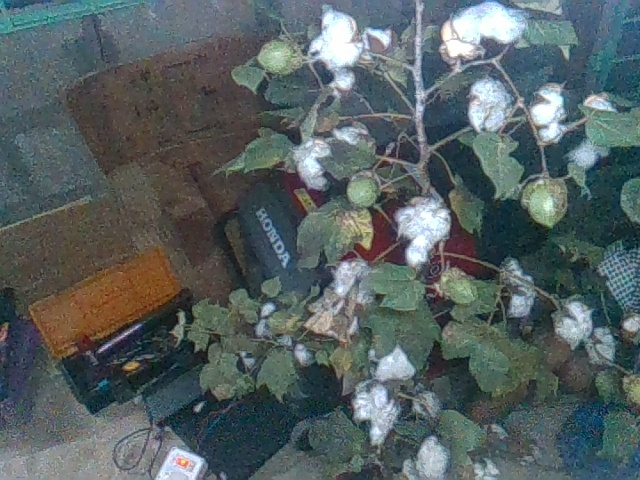cotton: (431, 1, 528, 65), (302, 2, 364, 94), (392, 190, 454, 268), (567, 93, 624, 170), (349, 380, 401, 448), (468, 78, 516, 139), (497, 253, 536, 320), (530, 83, 570, 148), (332, 255, 378, 309), (287, 136, 331, 192), (401, 434, 454, 480), (550, 295, 594, 350), (369, 343, 418, 383), (332, 118, 380, 158), (356, 24, 400, 60), (585, 326, 615, 365), (623, 312, 640, 336)
